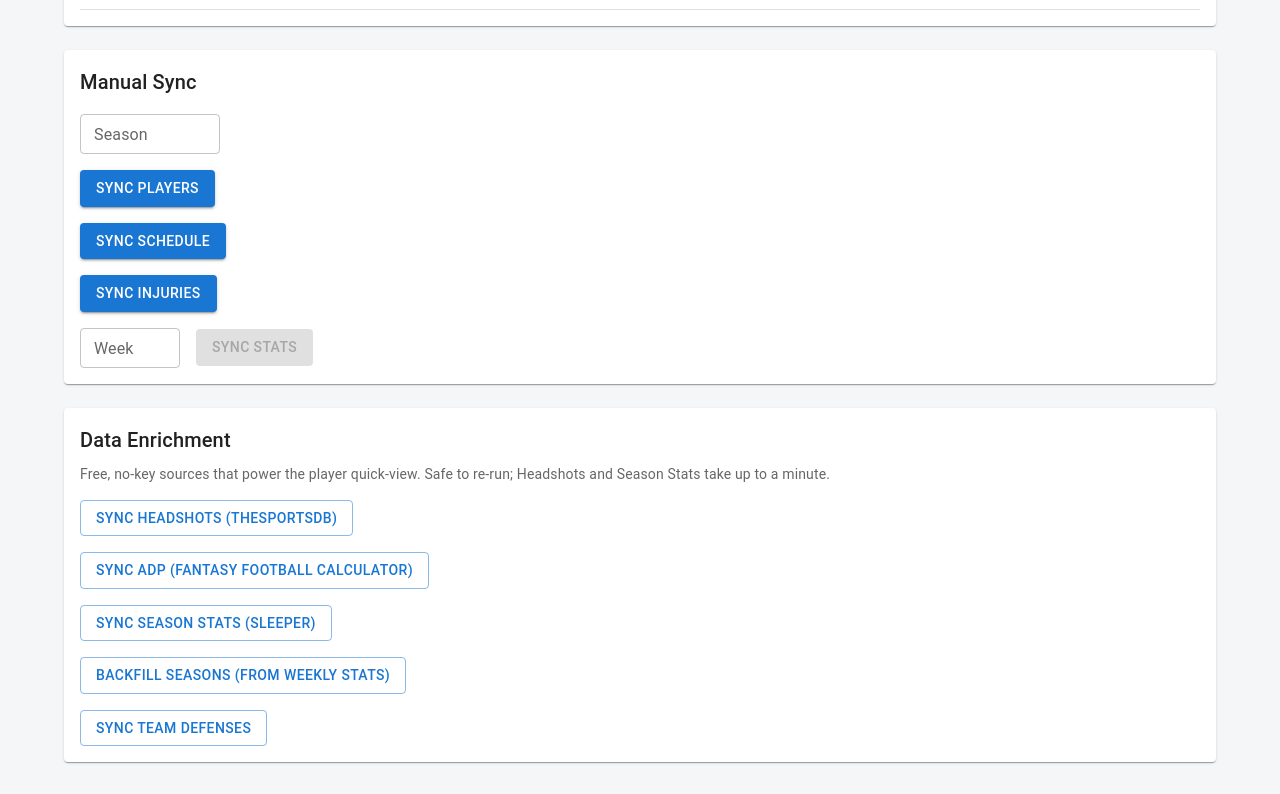
Test: clicking Sync Team Defenses POSTs to its admin sync route (no season/week needed)
The image size is (1280, 794).
(page scrolled)
Click the button "Sync Team Defenses". click: x=174, y=728
box: [80, 710, 267, 746]
(page scrolled)
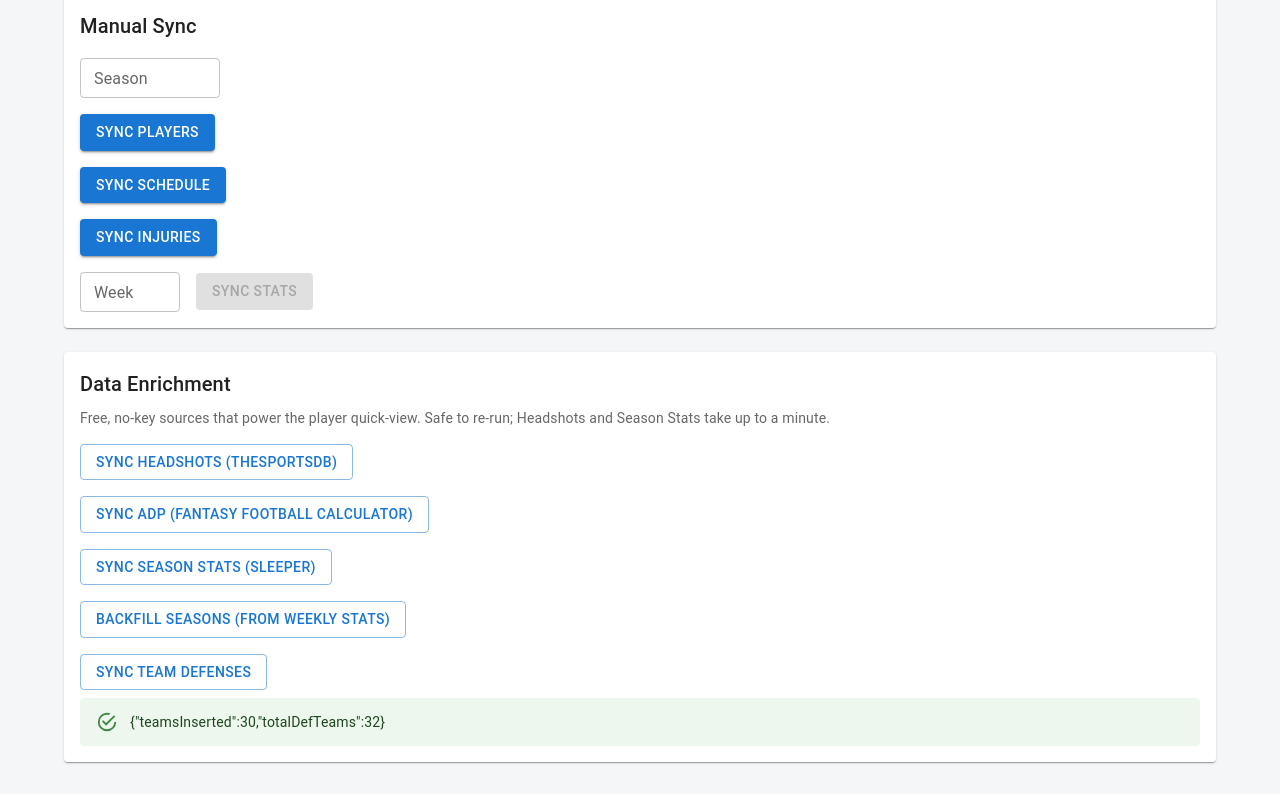
Check: the text "{\"teamsInserted\":30,\"totalDefTeams\":32}" is shown, box [130, 714, 385, 730]
